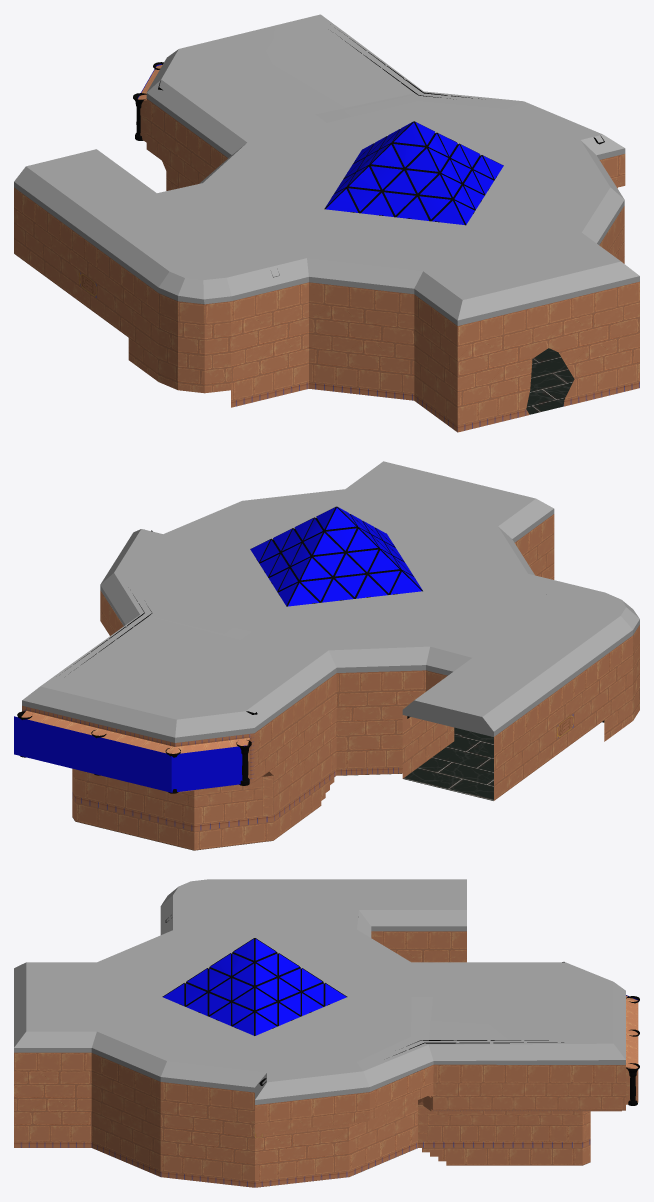
3 views of the same model, one above another, from view 1: azimuth 30°, elevation 25°; view 2: azimuth 150°, elevation 25°; view 3: azimuth 270°, elevation 25° (orthographic). The views are drawn at different scales.
Parts seen in each view (by area): view 1: SM_Rest_001, SM_LDWall_001, SM_LdGround_001; view 2: SM_Rest_001, SM_LDWall_001, SM_LdGround_001; view 3: SM_Rest_001, SM_LDWall_001.
Part boxes in pixels (x1=…): SM_Rest_001: x1=14, y1=14, x2=639, y2=325; SM_LDWall_001: x1=14, y1=65, x2=639, y2=432; SM_LdGround_001: x1=526, y1=348, x2=574, y2=414; SM_Rest_001: x1=14, y1=461, x2=639, y2=793; SM_LDWall_001: x1=21, y1=514, x2=639, y2=850; SM_LdGround_001: x1=72, y1=720, x2=604, y2=850; SM_Rest_001: x1=14, y1=879, x2=639, y2=1105; SM_LDWall_001: x1=14, y1=931, x2=638, y2=1187.
Bounding box in the file's own units: 3133 × 1273 × 3854.
